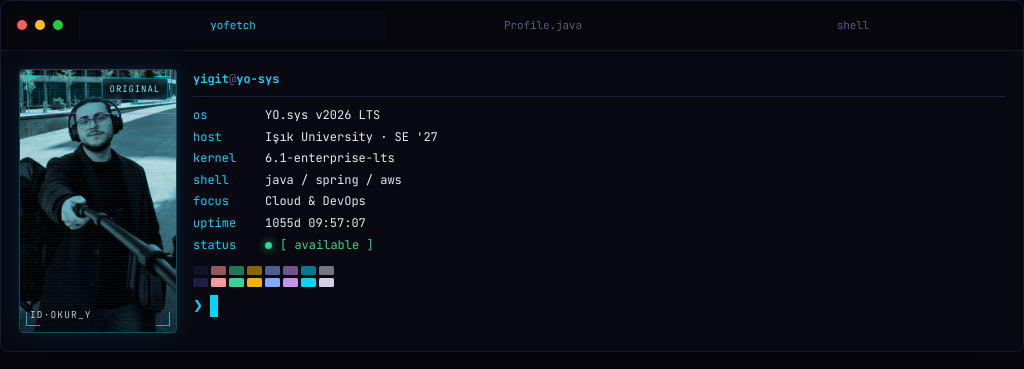
Test case: SystemTerminal › answers the new informational commands
The image size is (1024, 369).
Click the tab "shell" at (853, 25), box [699, 11, 1007, 40]
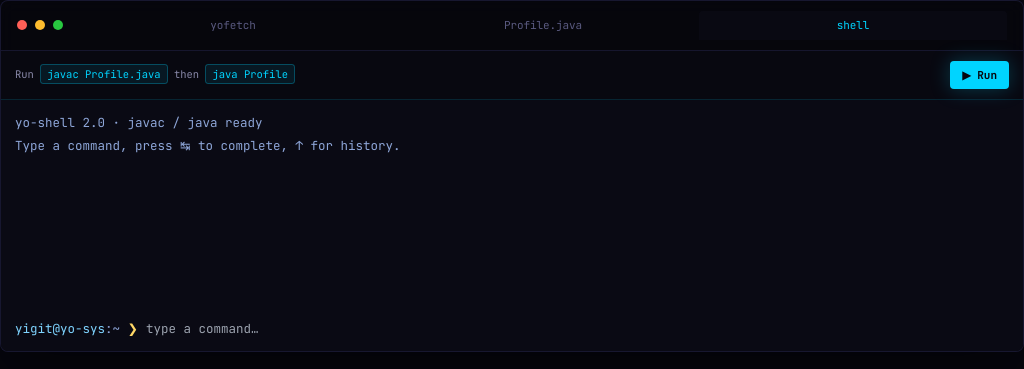
Type "whoami" into the field named "Shell input" at (578, 329), box [146, 320, 1009, 339]
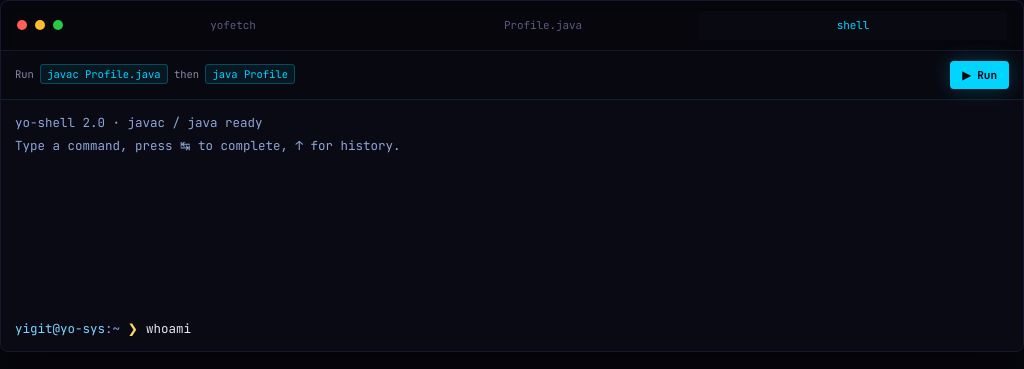
Press Enter in the field named "Shell input", box [146, 320, 1009, 339]
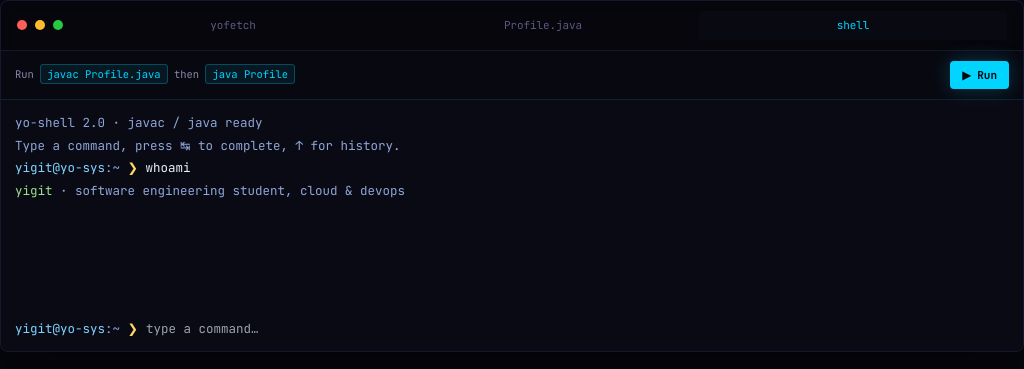
Check: the text "yigit" is shown, box [15, 182, 52, 198]
Type "pwd" into the field named "Shell input" at (578, 329), box [146, 320, 1009, 339]
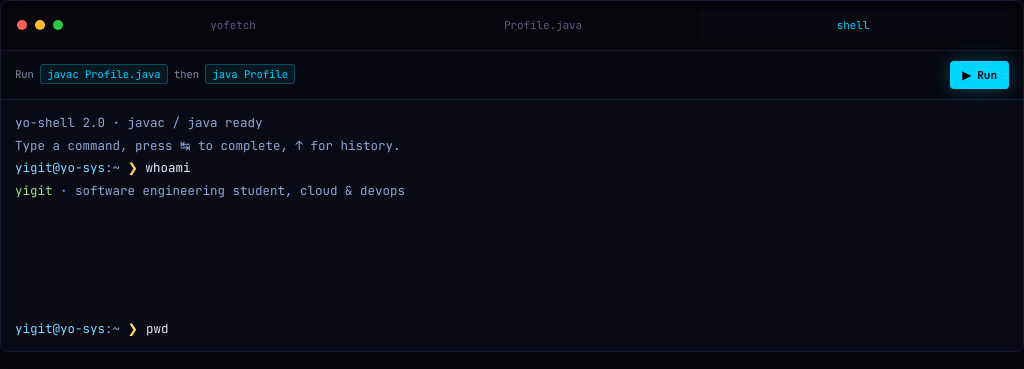
Press Enter in the field named "Shell input", box [146, 320, 1009, 339]
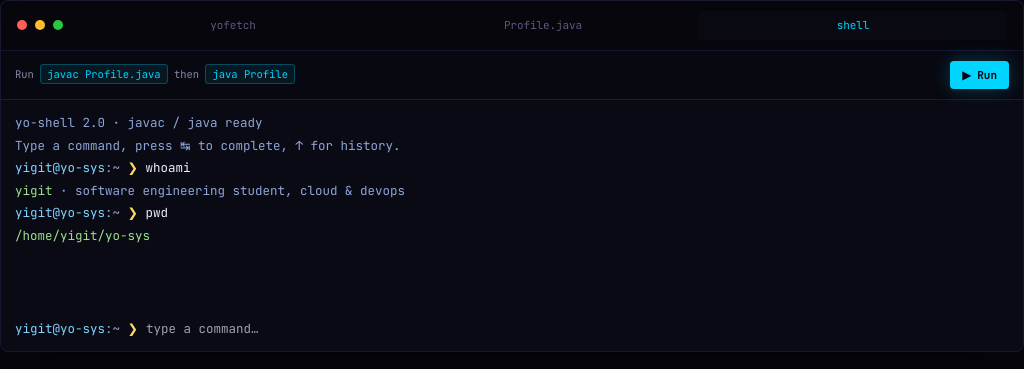
Check: the text "/home/yigit/yo-sys" is shown, box [15, 226, 150, 244]
